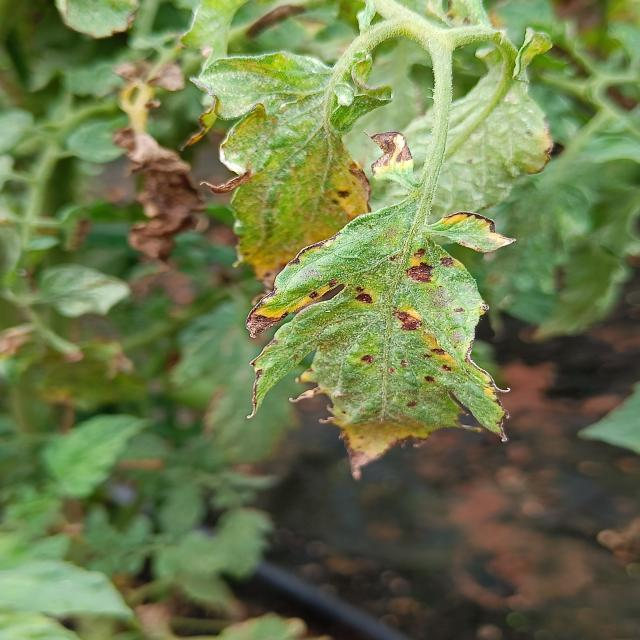Tomato mosaic virus leaf: (240, 202, 522, 486), (357, 126, 423, 190)
